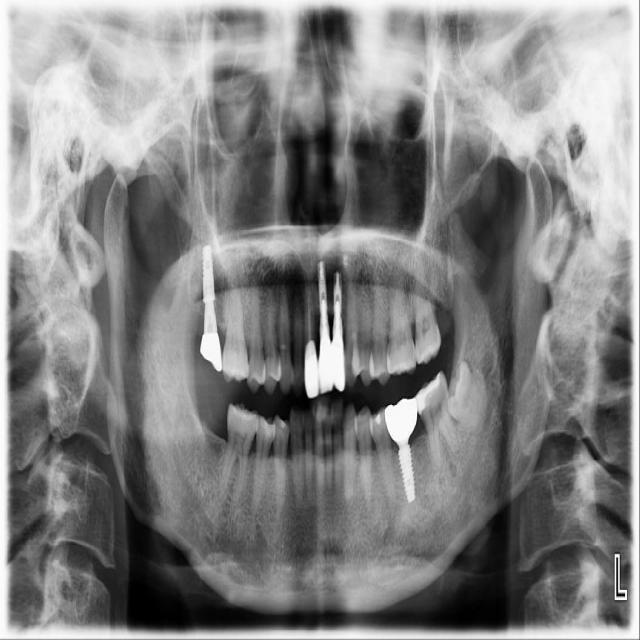52: (407, 366, 453, 418), (384, 398, 419, 443), (198, 329, 223, 374), (328, 335, 346, 392), (305, 339, 320, 399), (318, 337, 334, 393), (367, 406, 392, 438), (271, 414, 292, 442)
73: (305, 287, 315, 352), (596, 572, 602, 578)
BioHorizons Implant: (414, 259, 442, 365)
Biomet 3i Implant: (439, 359, 493, 430)
Blue Sky Bio Implant: (408, 369, 464, 469)
